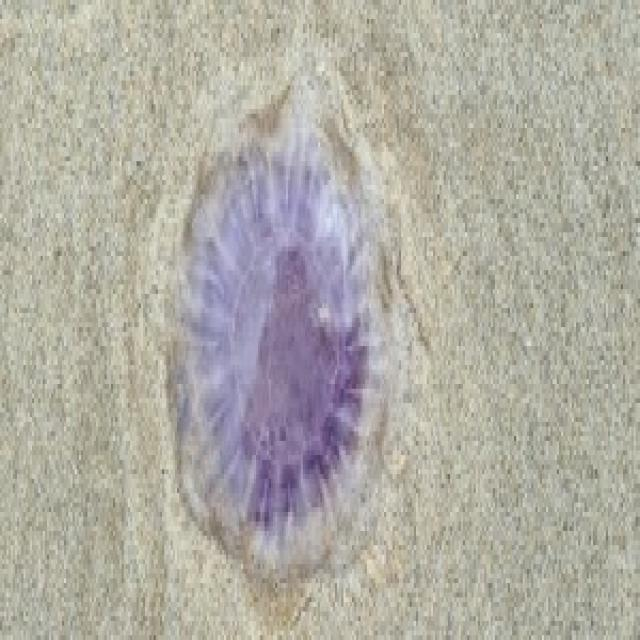Jellyfish: (158, 102, 402, 556)
